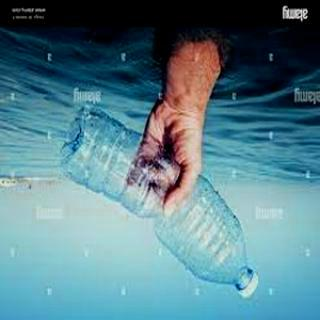Plastic: (56, 102, 259, 302)
